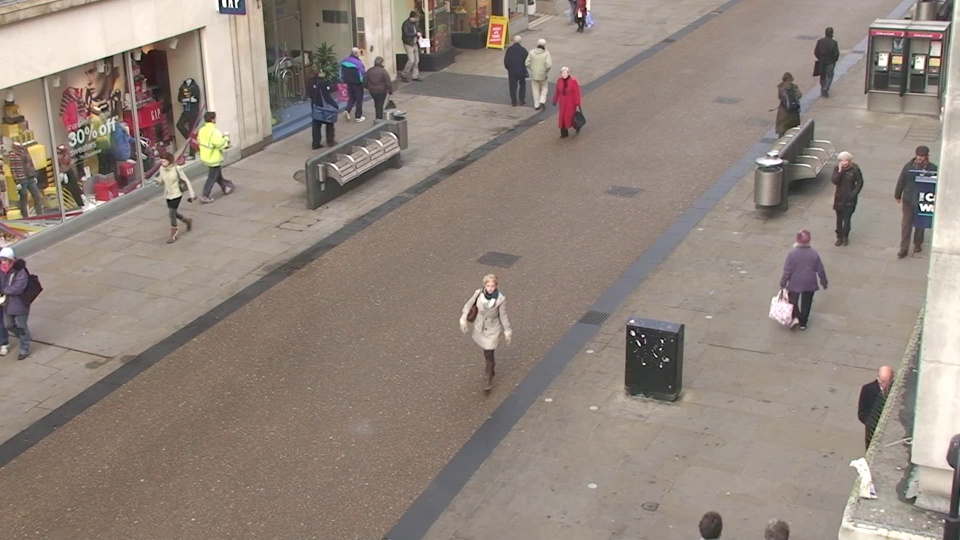pedestrian: (850, 355, 913, 518), (470, 268, 515, 404), (779, 223, 825, 347), (892, 142, 940, 248), (822, 148, 863, 253), (150, 149, 192, 251), (194, 107, 231, 198), (676, 494, 741, 540), (769, 68, 801, 152), (304, 63, 334, 143), (811, 25, 842, 100), (552, 64, 579, 145), (366, 53, 394, 130), (342, 43, 369, 118), (503, 33, 528, 106), (530, 35, 555, 108), (401, 9, 425, 75)
